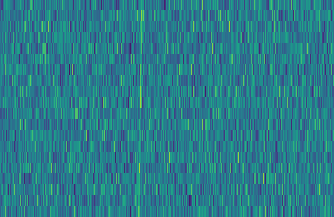signal: (134, 0, 146, 217)
